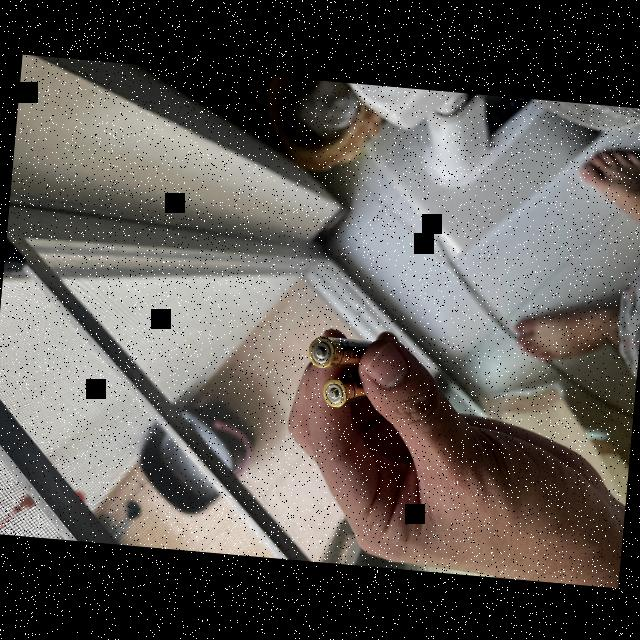battery: (308, 329, 383, 367), (324, 373, 369, 406)
